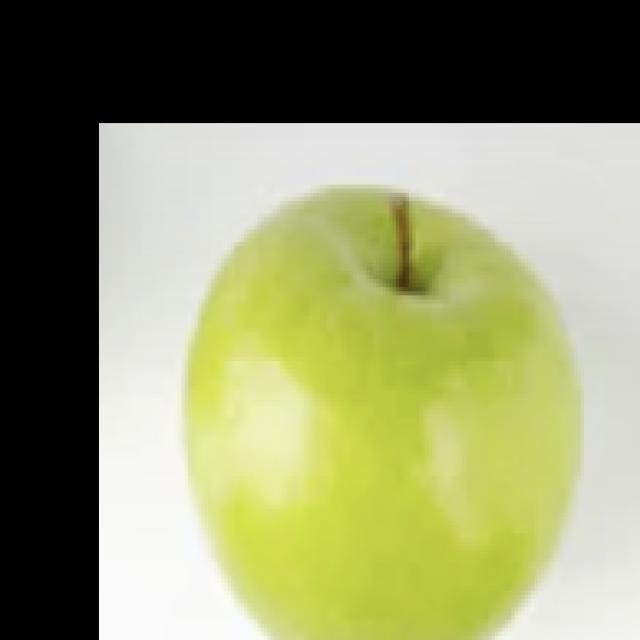Apple: (181, 182, 583, 639)
